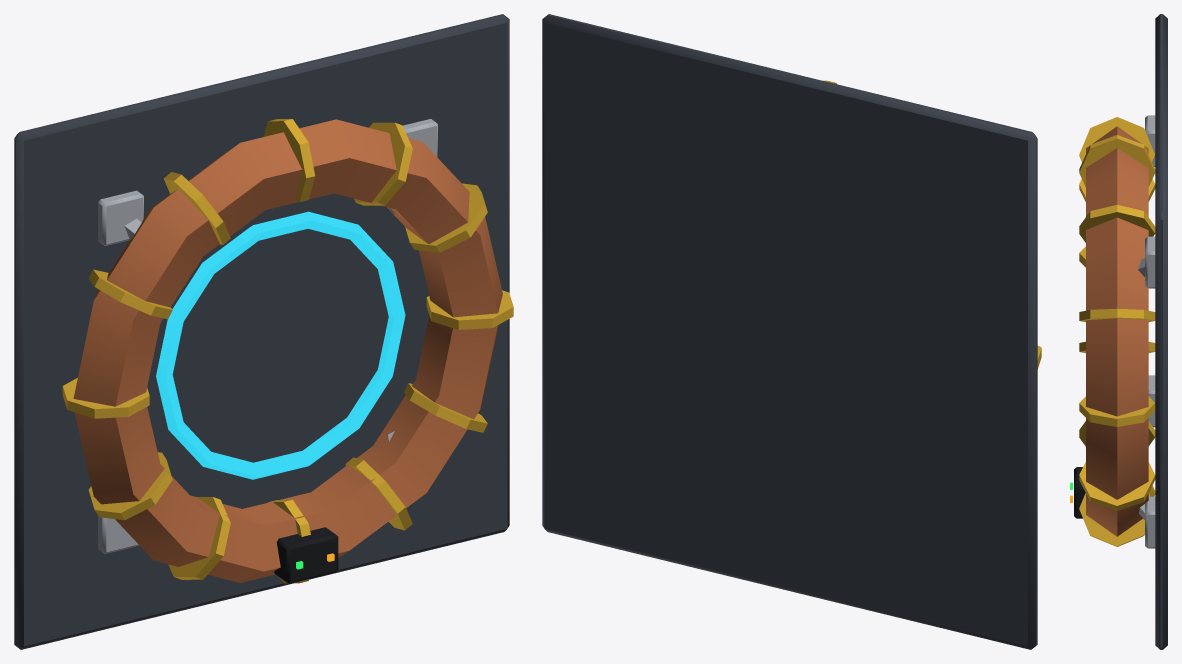
Rendered from coil_field_coil_ring.glb.
The picture shows the model from 3 angles, left to right: view 1: azimuth 30°, elevation 25°; view 2: azimuth 150°, elevation 25°; view 3: azimuth 270°, elevation 25°; orthographic projection. The views are drawn at different scales.
Visible parts, largest first — view 1: coil_field_coil_ring; view 2: coil_field_coil_ring; view 3: coil_field_coil_ring.
Boxes of the visible parts, box(x1,y1,x2,y2) form: coil_field_coil_ring: box(14, 14, 513, 649); coil_field_coil_ring: box(542, 14, 1041, 649); coil_field_coil_ring: box(1070, 14, 1167, 649).
Size of the model in its own units: 1.9 by 1.9 by 0.386.
